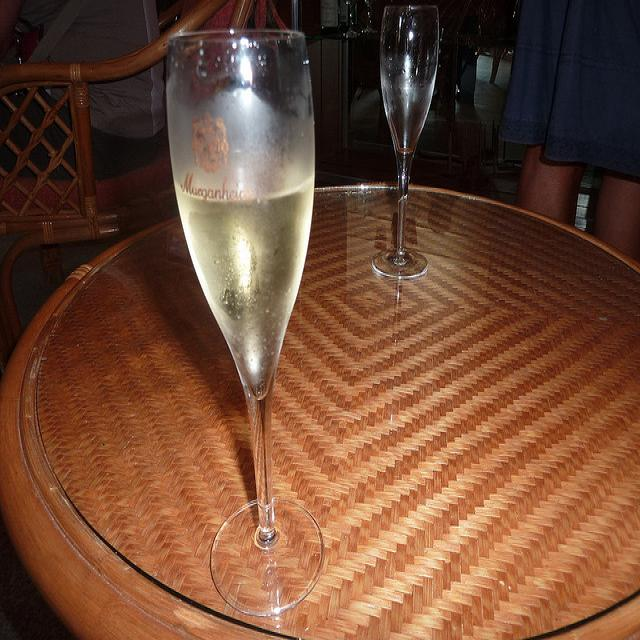chair: (2, 0, 272, 364), (479, 1, 518, 85)
dining table: (3, 190, 637, 623)
